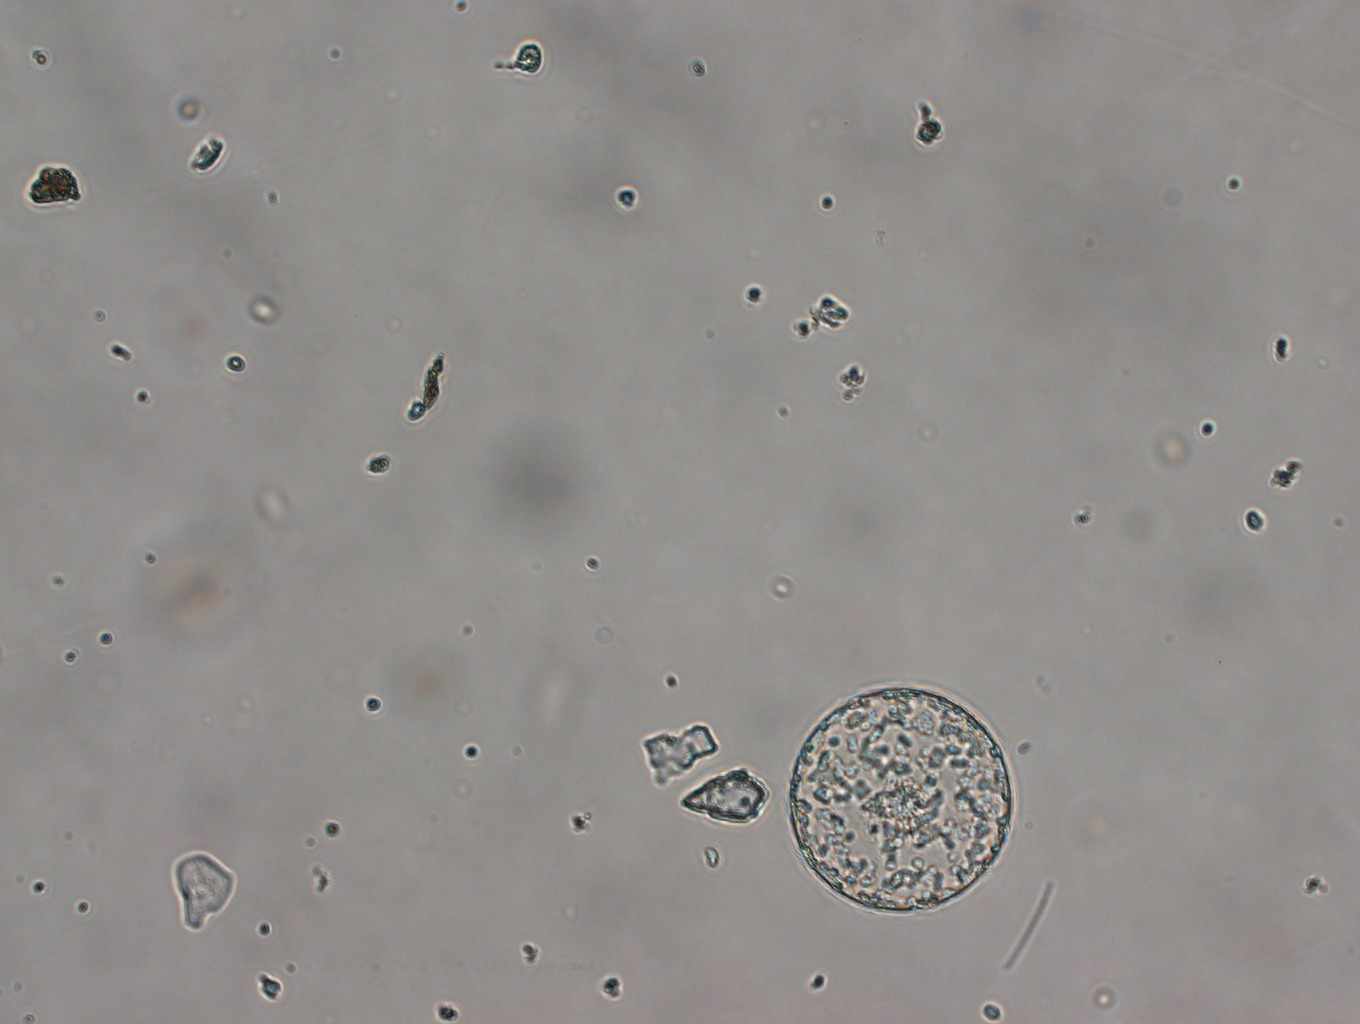coscinodiscus: (786, 684, 1016, 915)
